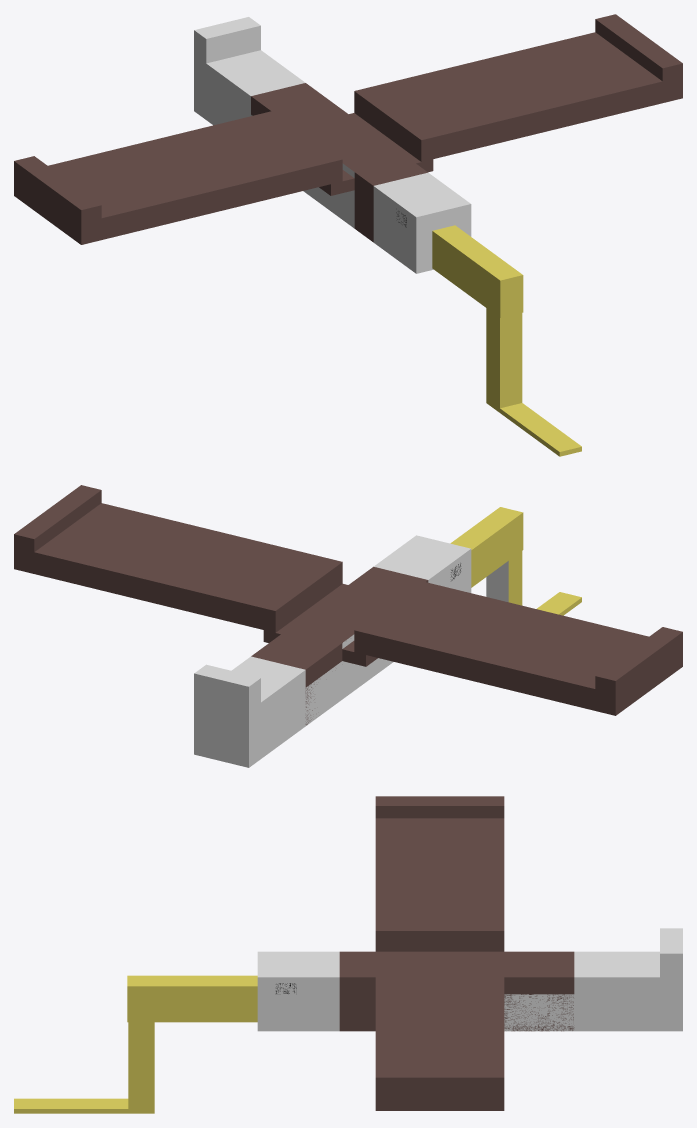
The model's file is eagle.fbx.
3 views of the same model, one above another, from view 1: azimuth 30°, elevation 25°; view 2: azimuth 150°, elevation 25°; view 3: azimuth 270°, elevation 25° (orthographic). The views are drawn at different scales.
Visible parts, largest first — view 1: Cube; view 2: Cube; view 3: Cube.
Boxes of the visible parts, x1=… form: Cube: x1=14, y1=14, x2=682, y2=456; Cube: x1=14, y1=485, x2=682, y2=767; Cube: x1=14, y1=796, x2=682, y2=1113.
Size of the model in its own units: 3743 by 1064 by 3765.
